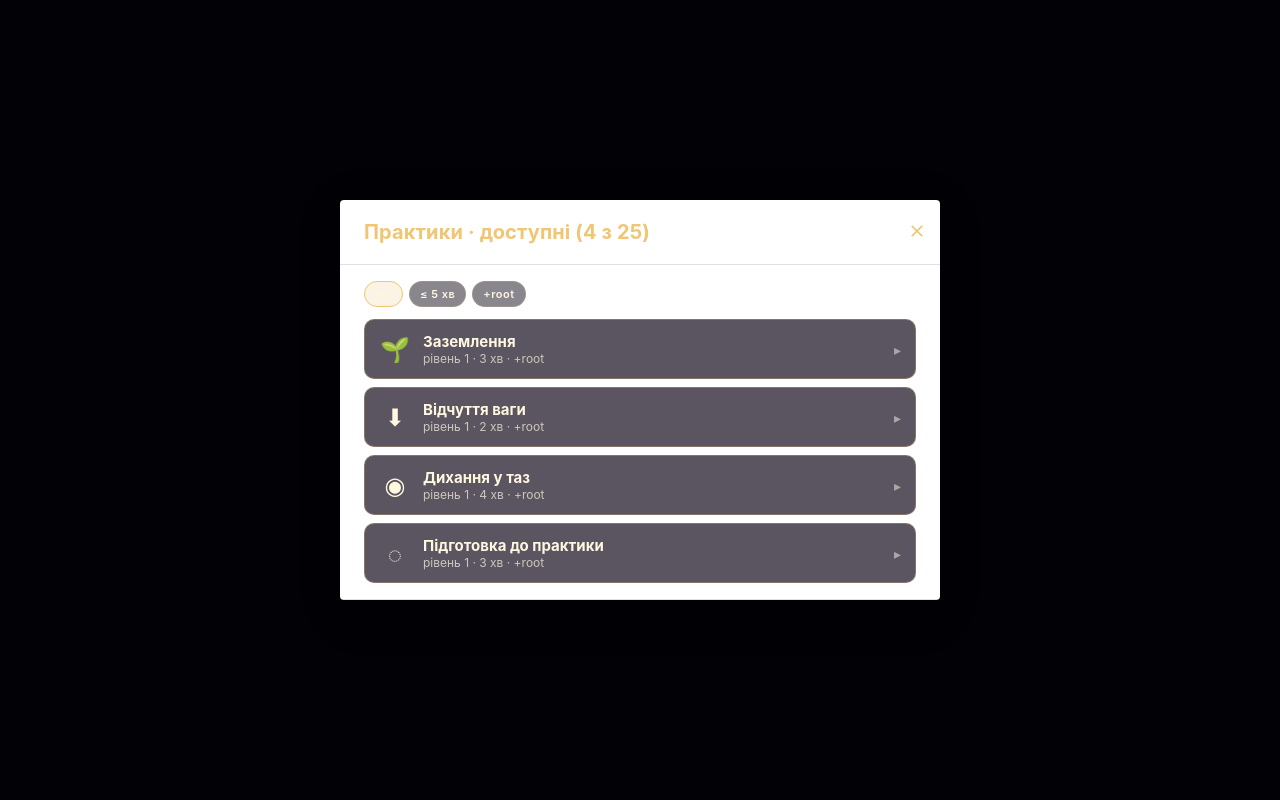
PracticesModal › clicking a practice opens runner intro
Click the button "🌱 Заземлення рівень 1 · 3 хв · +root ▸". click: [469, 342]
box: [364,319,916,379]
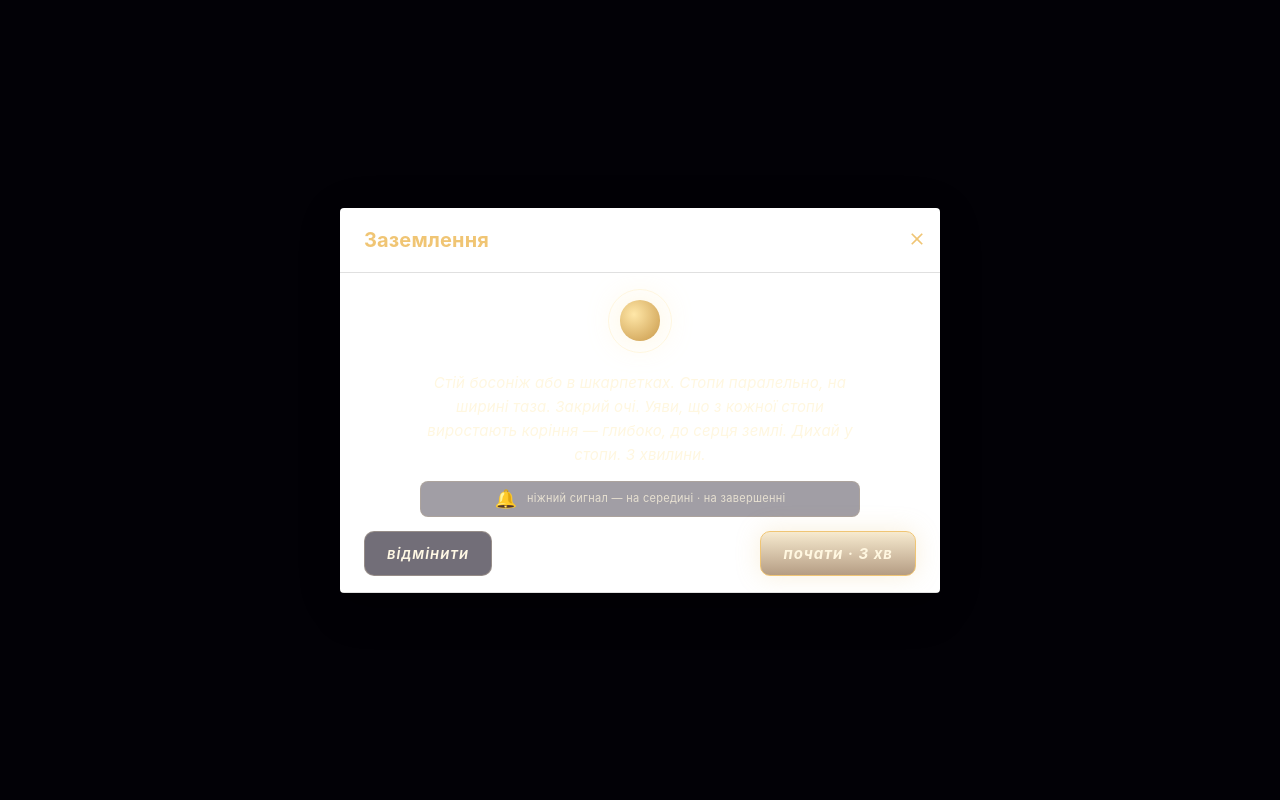
Expected: the button "відмінити" is shown, [364,530,492,576]
Expected: the button "почати · 3 хв" is shown, [760,530,916,576]
